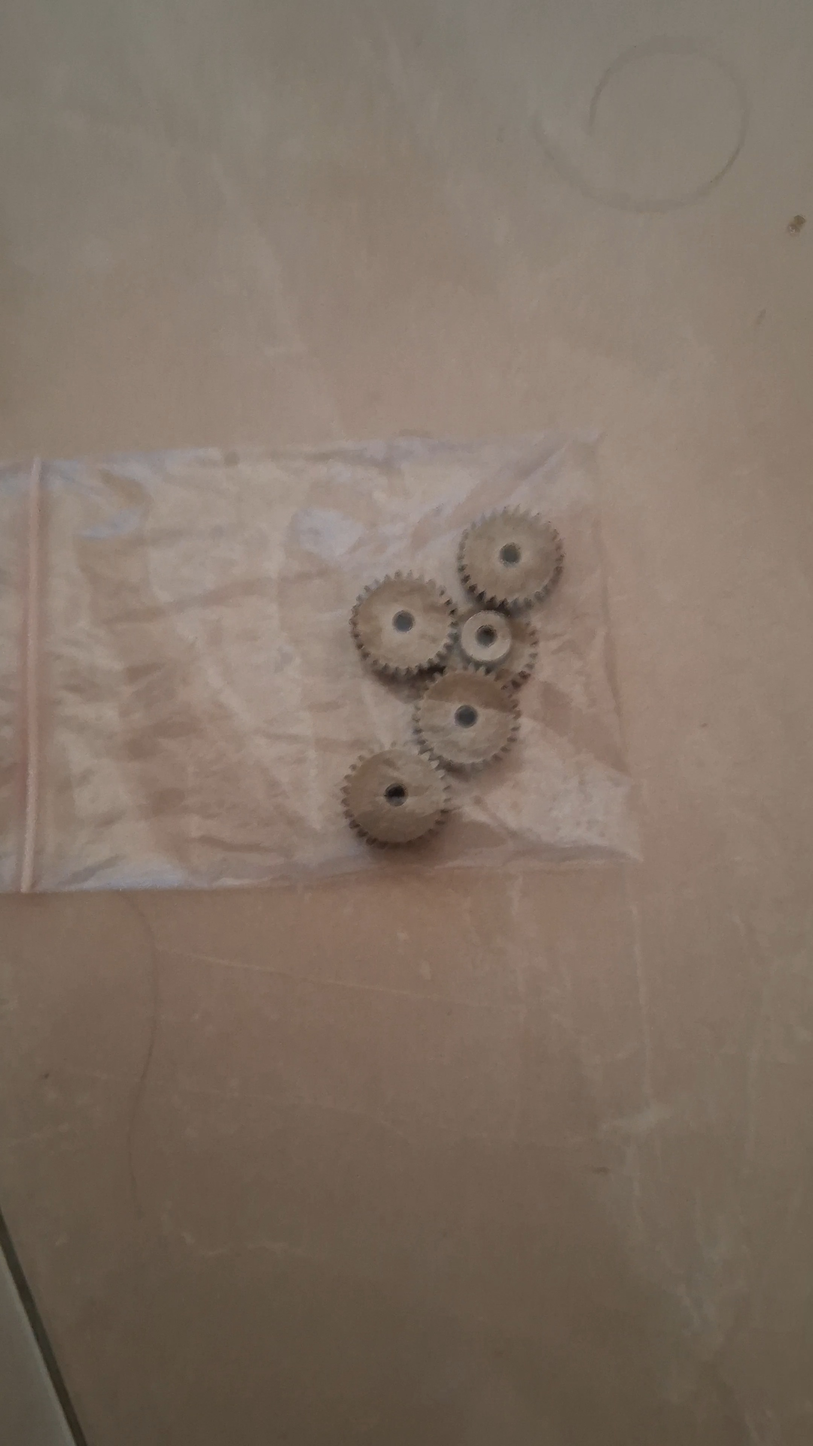spur gear: (350, 573, 455, 679), (458, 508, 563, 612), (343, 747, 449, 846), (414, 668, 519, 767), (459, 610, 512, 669)
